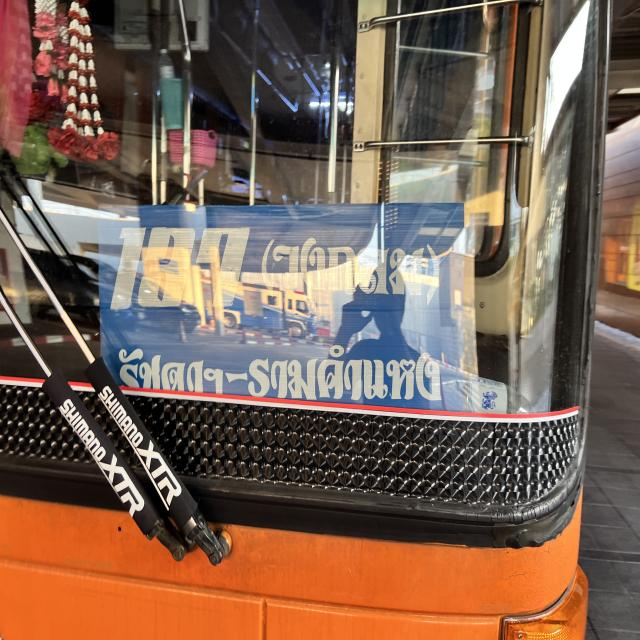BMTA-bus: (0, 0, 640, 640)
Destination-Sign-Normal: (100, 202, 465, 410)
